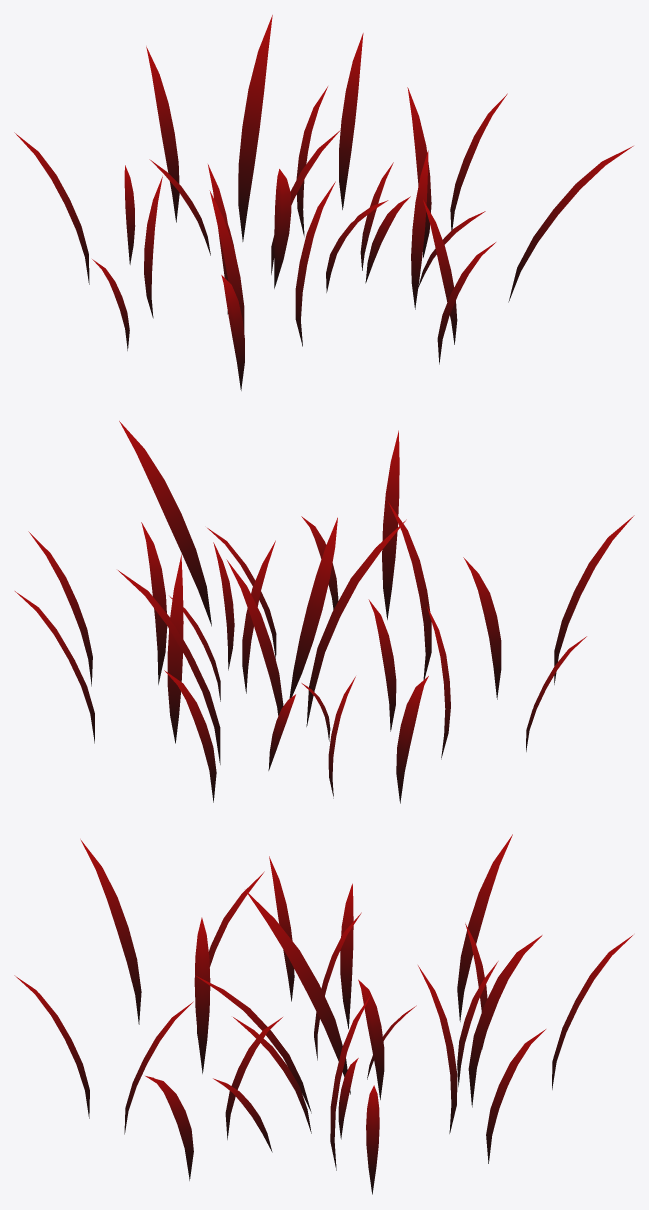
File: Nature Grass.fbx
3 views of the same model, one above another, from view 1: azimuth 30°, elevation 25°; view 2: azimuth 150°, elevation 25°; view 3: azimuth 270°, elevation 25° (orthographic). The views are drawn at different scales.
Visible parts, largest first — view 1: Grass; view 2: Grass; view 3: Grass.
Boxes of the visible parts, x1=… form: Grass: x1=14, y1=15, x2=633, y2=390; Grass: x1=15, y1=421, x2=634, y2=803; Grass: x1=14, y1=834, x2=632, y2=1194.
Bounding box in the file's own units: 3.73 × 1.39 × 3.76.
